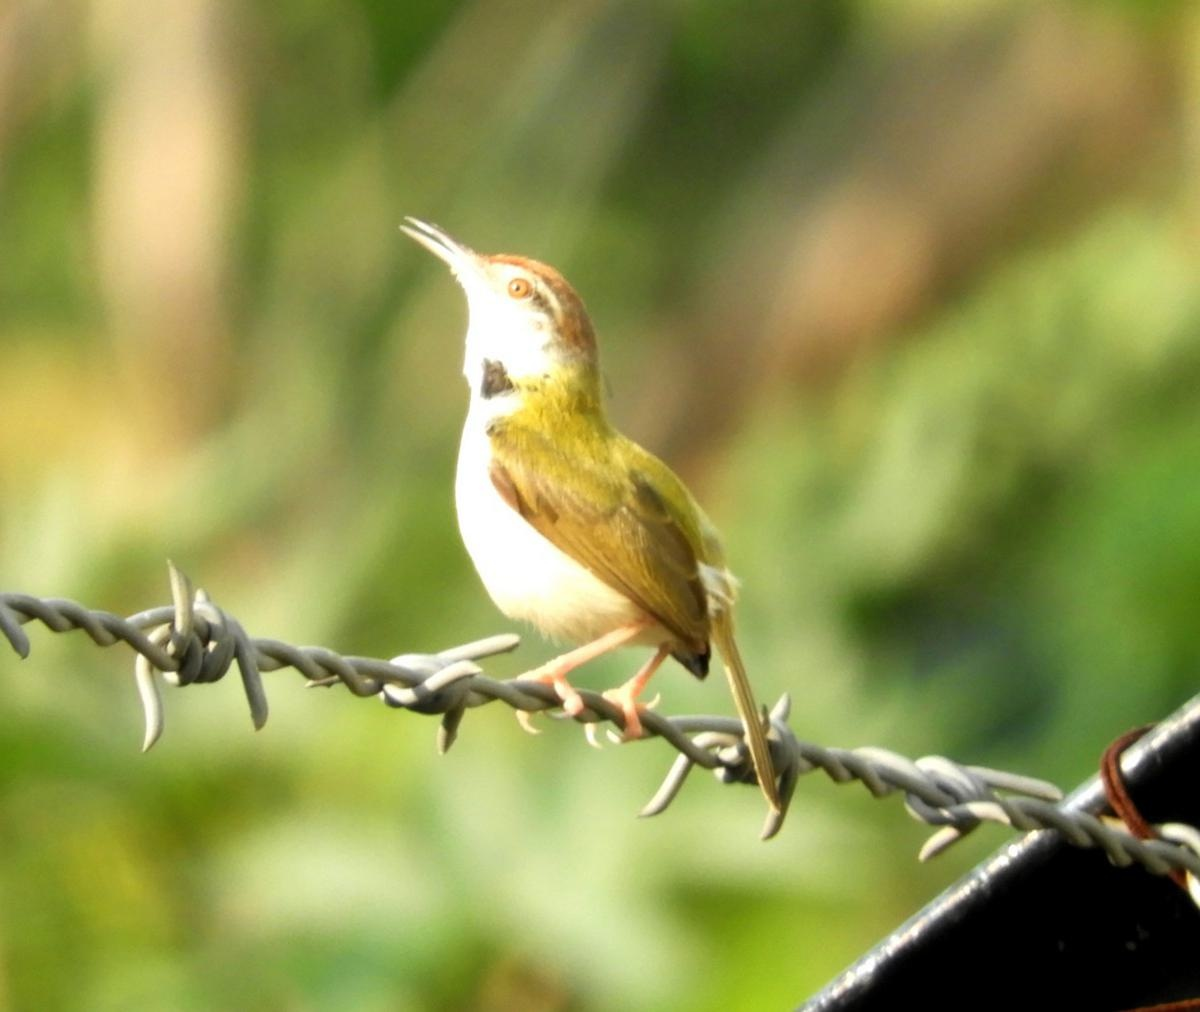tailorbird: (388, 193, 797, 821)
